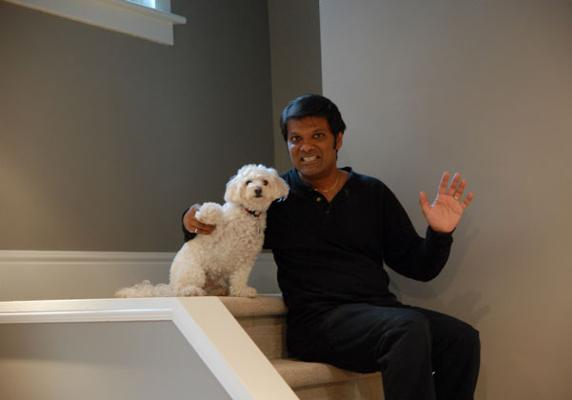person: (184, 94, 483, 400)
